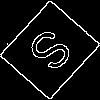S: (25, 25, 83, 82)
